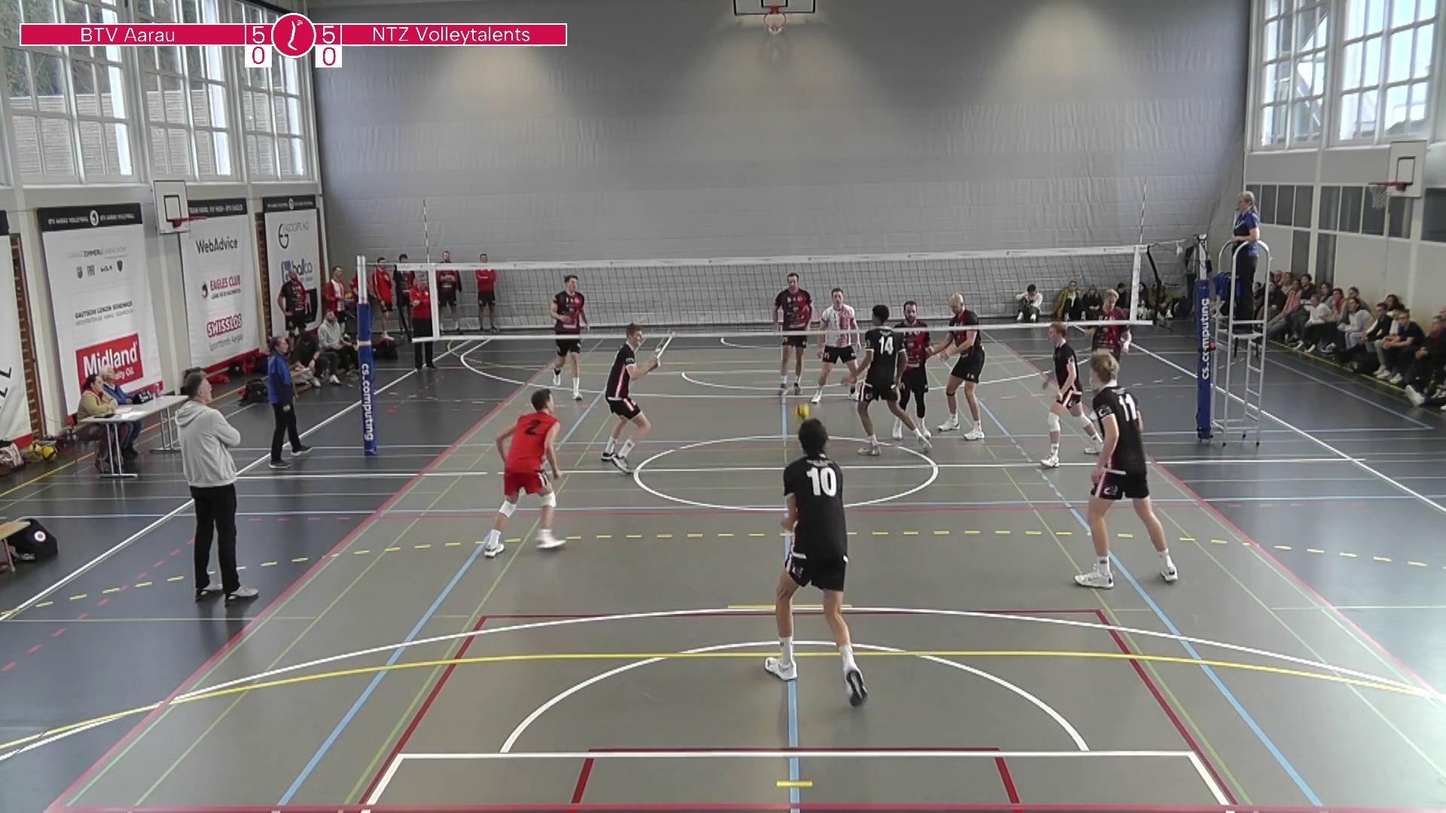Player: (764, 417, 868, 706), (1074, 353, 1178, 588), (482, 390, 564, 556), (854, 302, 915, 455), (1040, 320, 1103, 468), (601, 323, 657, 473), (934, 294, 987, 441), (892, 300, 935, 440), (810, 288, 859, 402), (773, 272, 814, 394), (548, 276, 587, 401), (1097, 289, 1132, 359)
ball: (793, 399, 813, 419)
